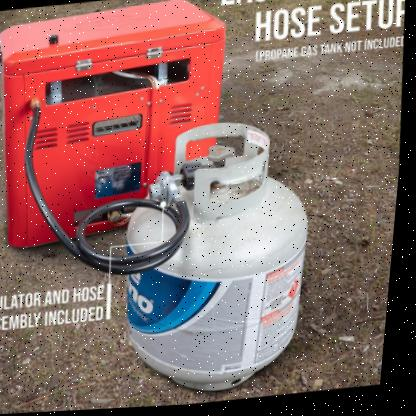gas-tank: (104, 102, 348, 410)
